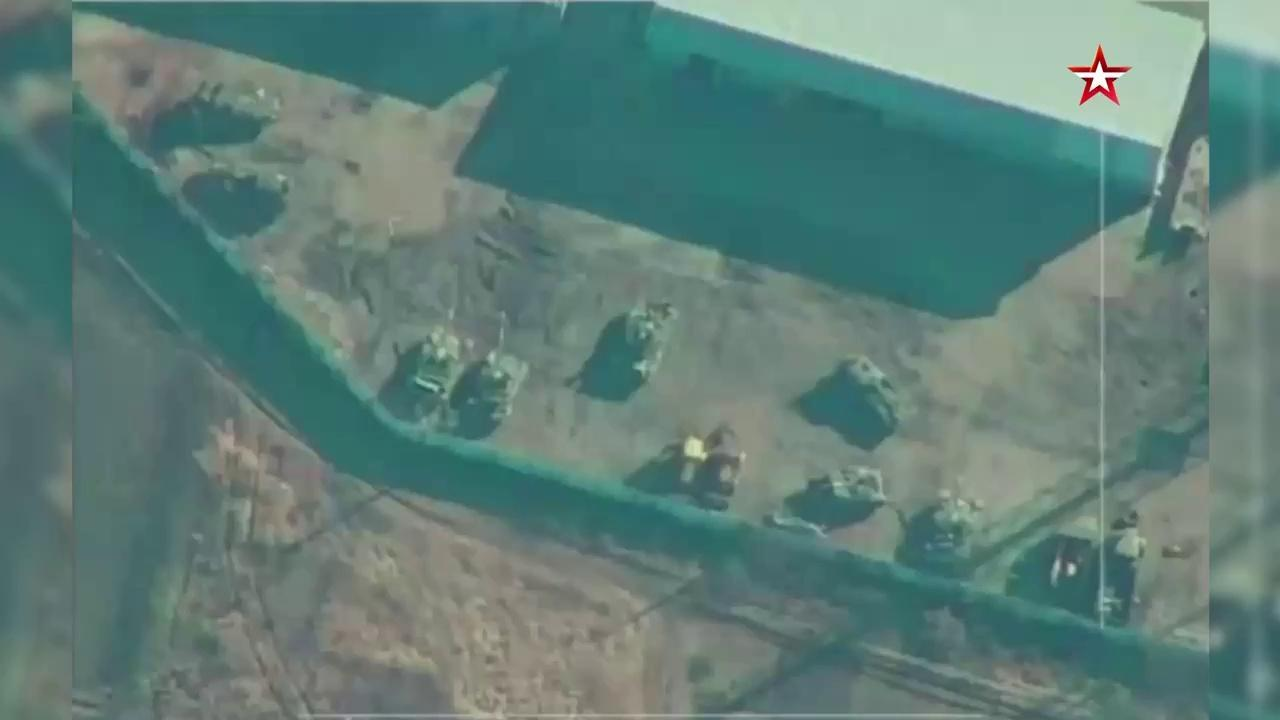tank: (464, 309, 530, 422), (404, 304, 476, 404), (920, 475, 982, 583), (828, 353, 914, 429)
